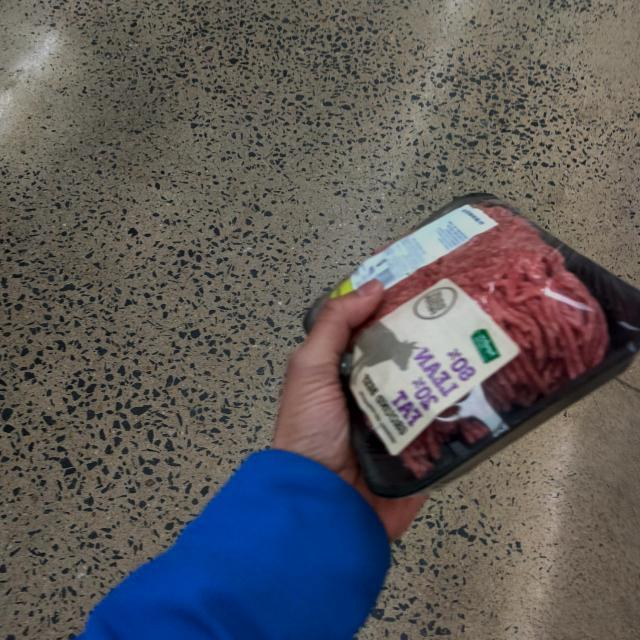Meat: (282, 190, 628, 501)
